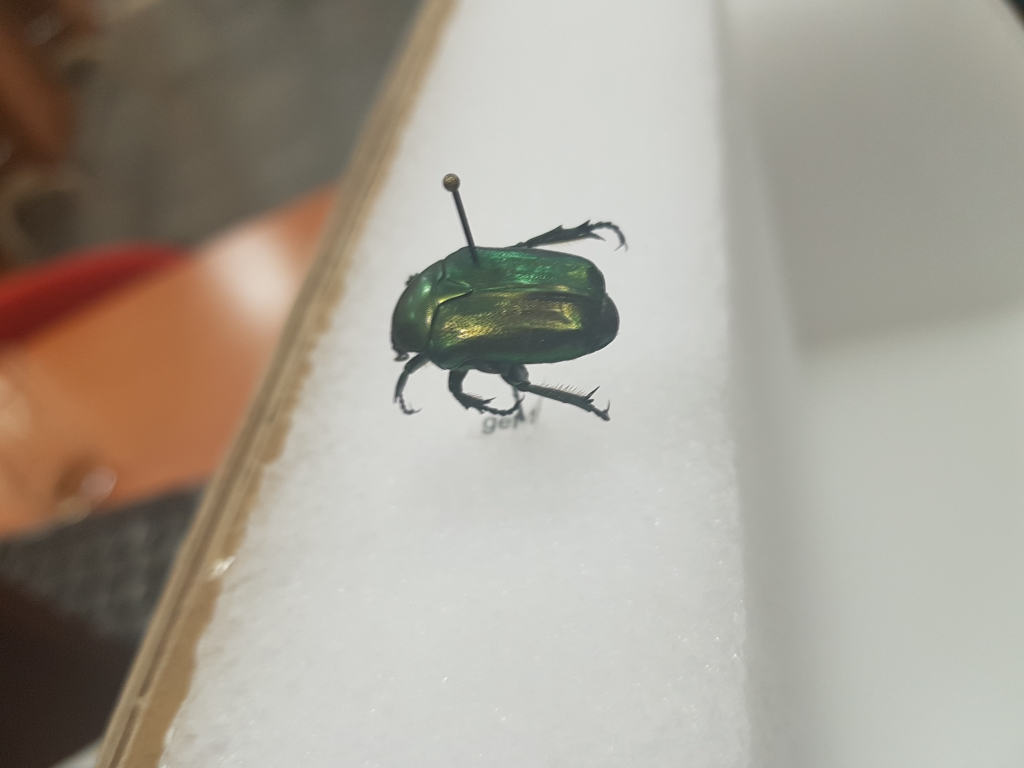Cetonia_aurata: (374, 199, 645, 441)
